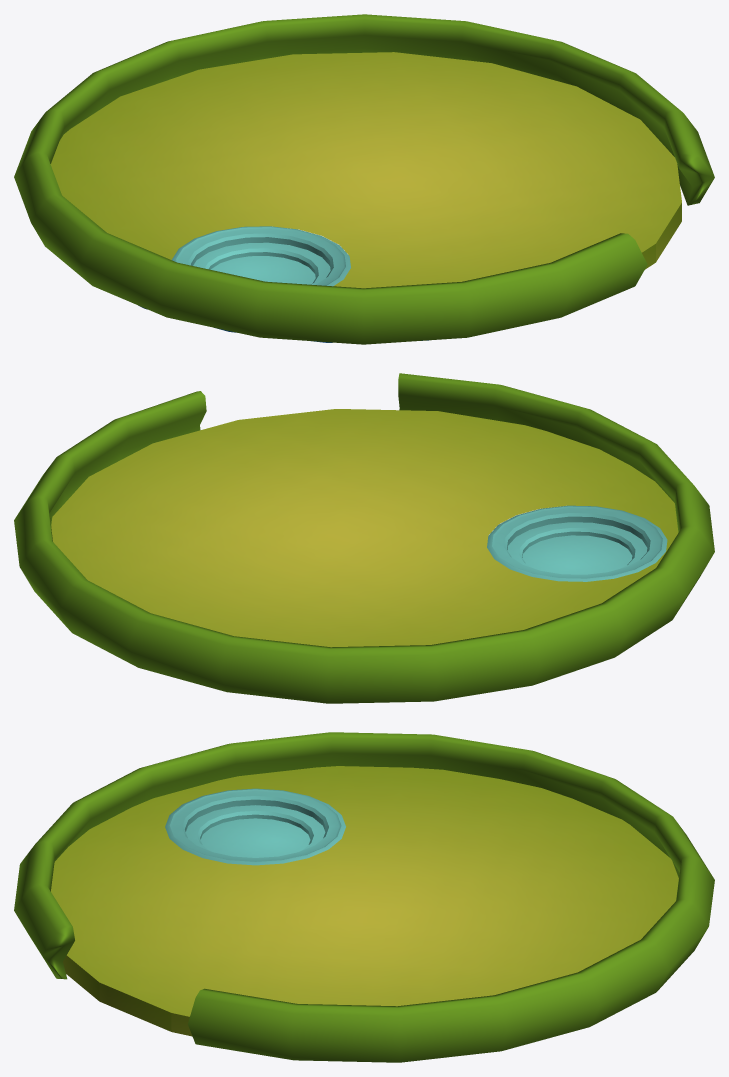
Rendered from SM_Y_01_Yard_14.fbx.
The picture shows the model from 3 angles, top to bottom: view 1: azimuth 30°, elevation 25°; view 2: azimuth 150°, elevation 25°; view 3: azimuth 270°, elevation 25°; orthographic projection.
Visible parts, largest first — view 1: SM_Y_01_Yard_14; view 2: SM_Y_01_Yard_14; view 3: SM_Y_01_Yard_14.
Part boxes in pixels (x1,y1,x2,y2): SM_Y_01_Yard_14: (14,14,714,344); SM_Y_01_Yard_14: (14,373,714,703); SM_Y_01_Yard_14: (14,732,714,1062).
Size of the model in its own units: 3128 by 263 by 3128.
